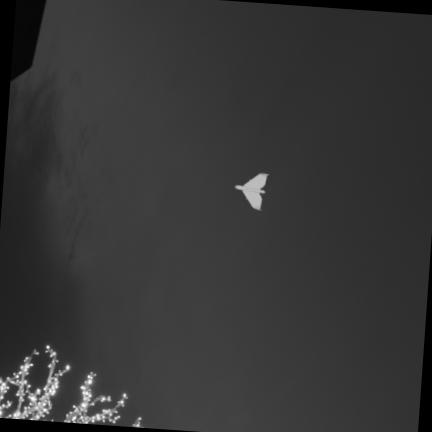Shahed: (234, 173, 266, 210)
